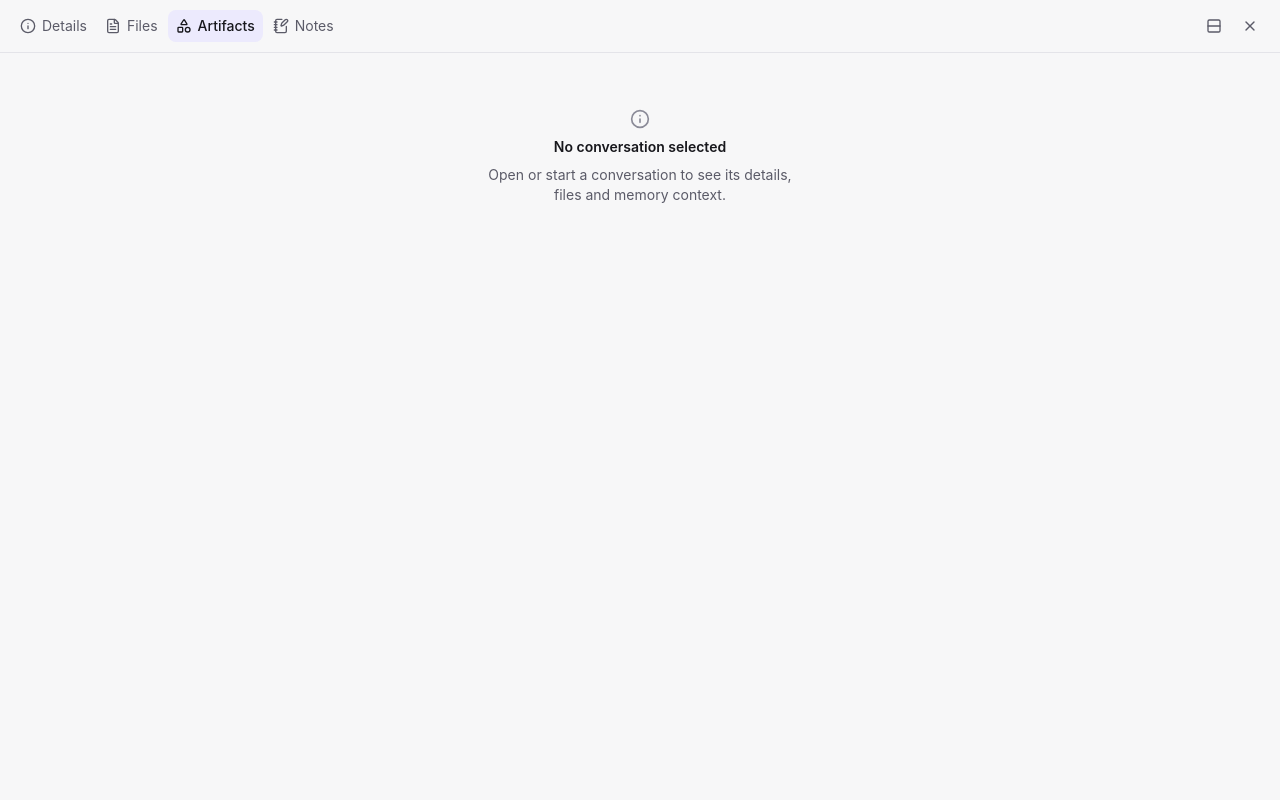
Test: right panel UI › shows one section until "show several sections together" is switched on
Expected: the number of panels is 1, [488,109,792,203]
Click the button named "Show several sections together".
click(1214, 26)  # box [1196,8,1232,44]
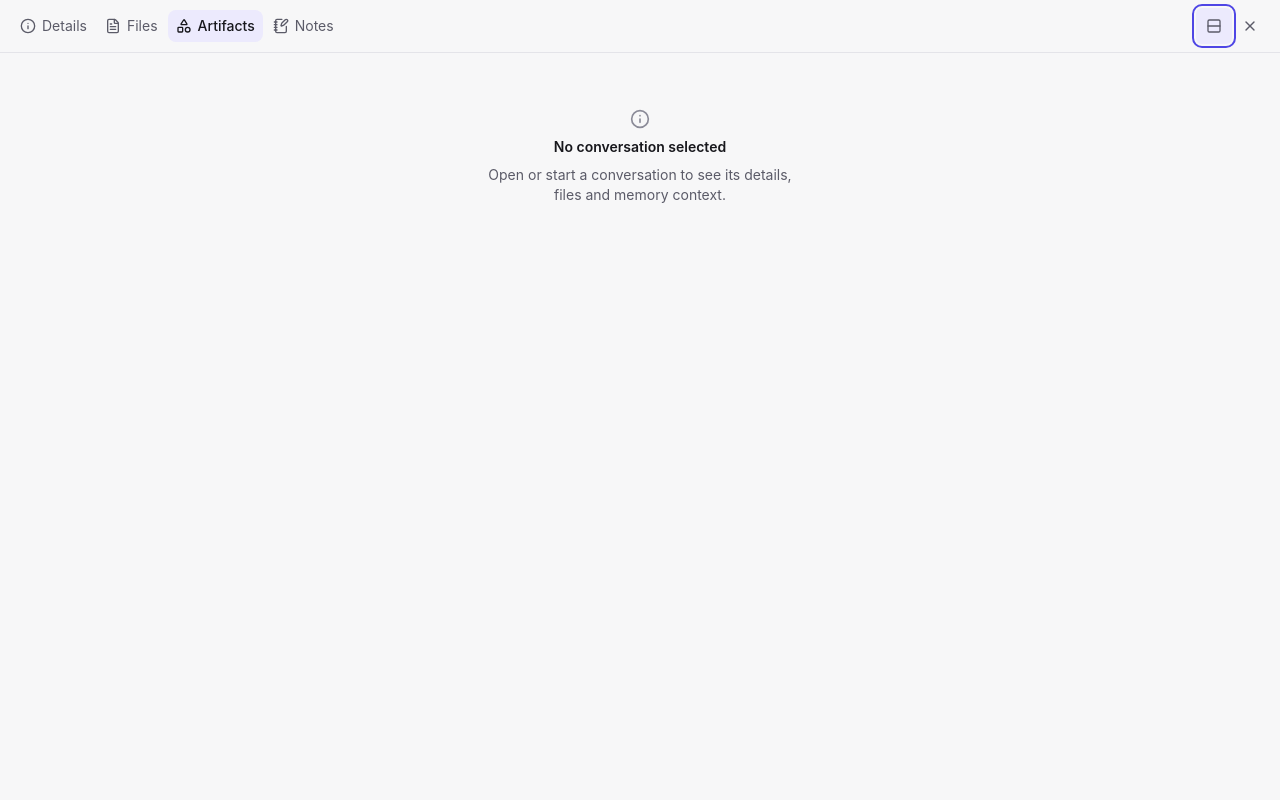
Click the tab "Notes".
click(303, 26)  # box [265,10,342,42]
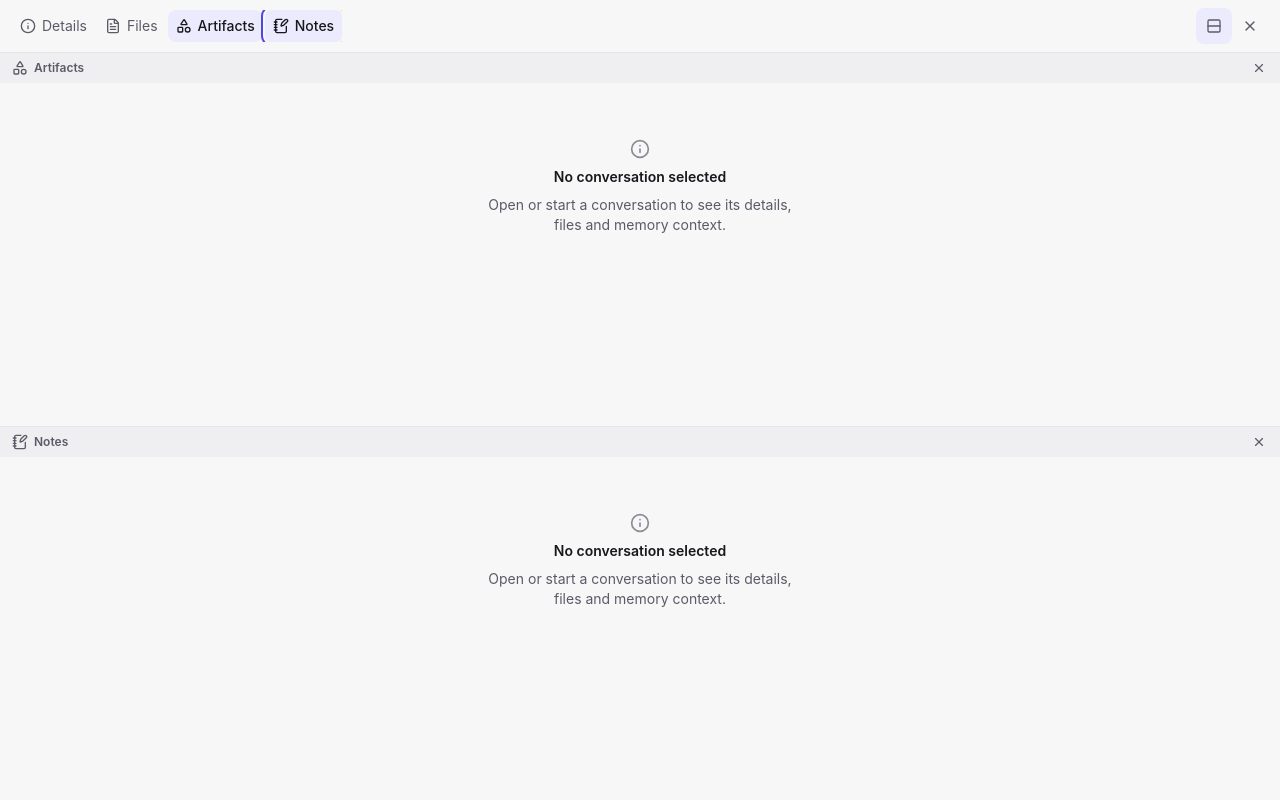
Expected: the number of panels is 2, [0,53,1279,427]; [0,427,1279,607]
Expected: the text "Artifacts" is shown, [12,60,84,76]
Expected: the text "Notes" is shown, [12,434,68,450]
